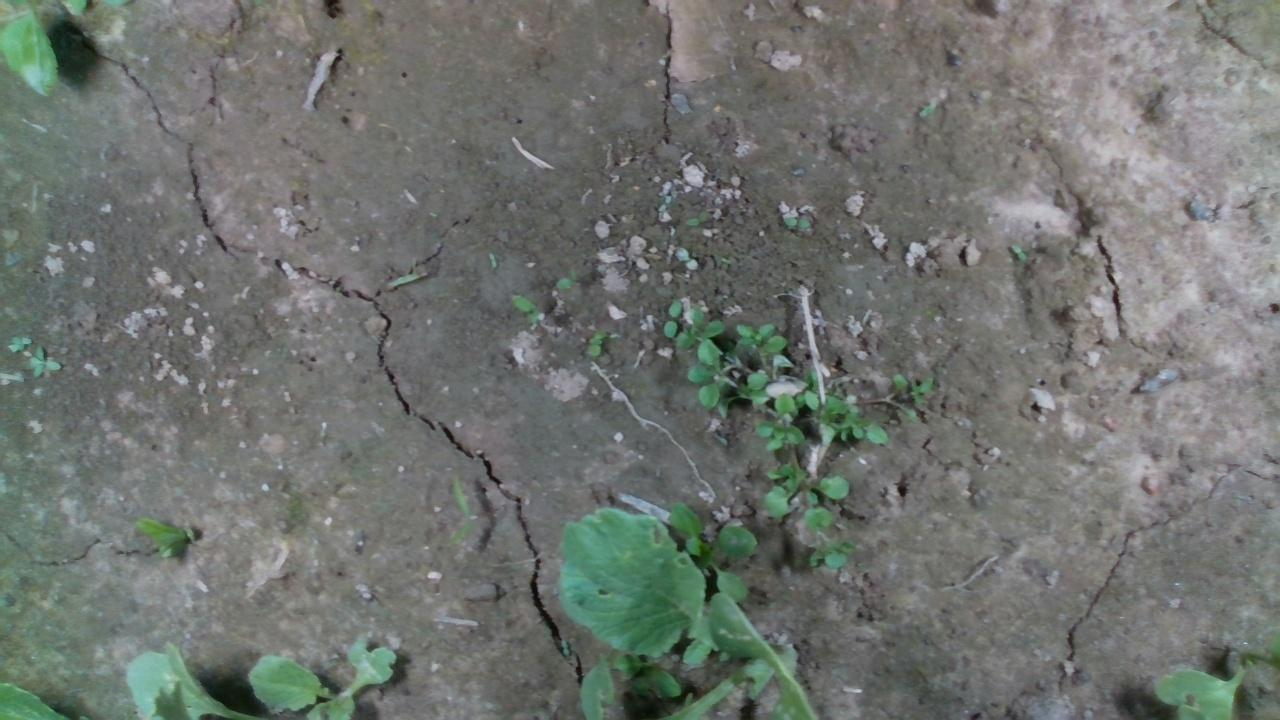weed: (584, 326, 605, 356), (683, 206, 710, 226), (782, 215, 811, 230), (1008, 242, 1026, 260)
